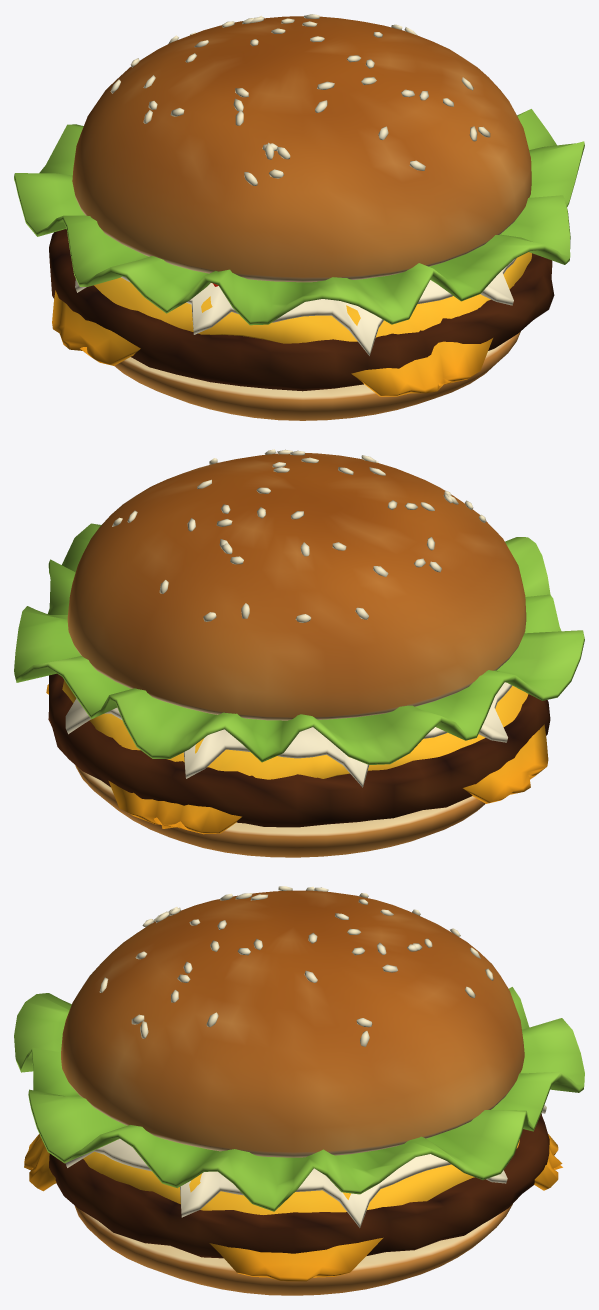
The model's file is burger.glb.
The picture shows the model from 3 angles, top to bottom: view 1: azimuth 30°, elevation 25°; view 2: azimuth 150°, elevation 25°; view 3: azimuth 270°, elevation 25°; orthographic projection.
Visible parts, largest first — view 1: burger; view 2: burger; view 3: burger.
Part boxes in pixels (x1=…): burger: x1=14, y1=14, x2=584, y2=420; burger: x1=14, y1=449, x2=584, y2=857; burger: x1=14, y1=886, x2=584, y2=1295.
Size of the model in its own units: 0.1503 by 0.0926 by 0.1489.
